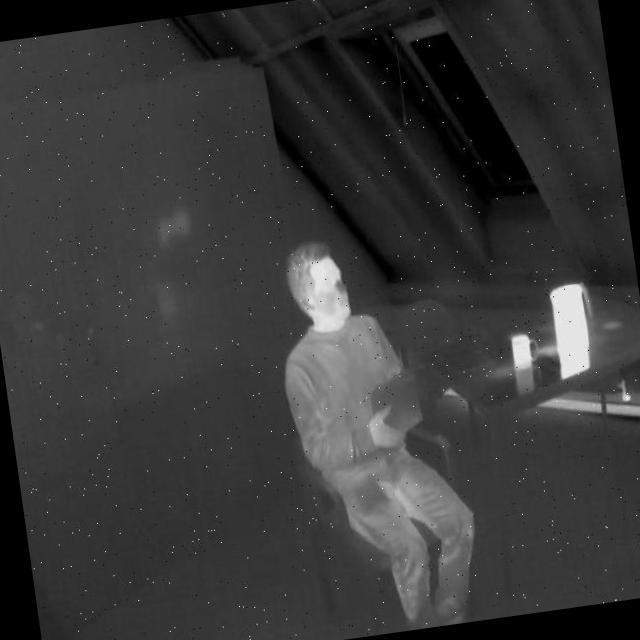person: (262, 222, 499, 640)
